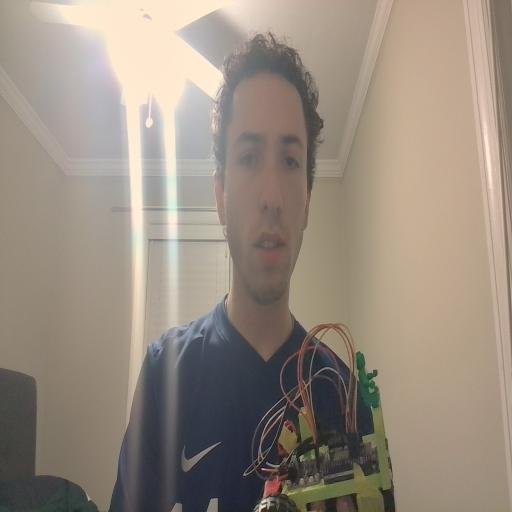green LEGO minifig: (352, 343, 382, 410)
